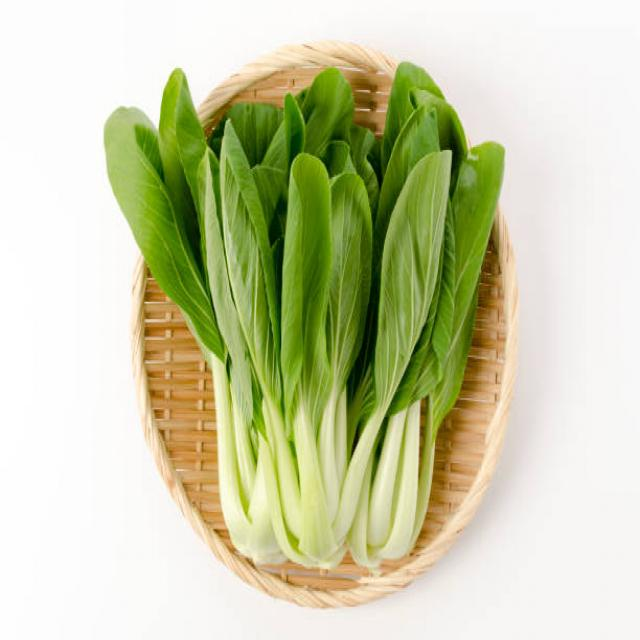bok choy: (174, 89, 286, 546), (366, 134, 430, 556), (298, 102, 354, 567)
